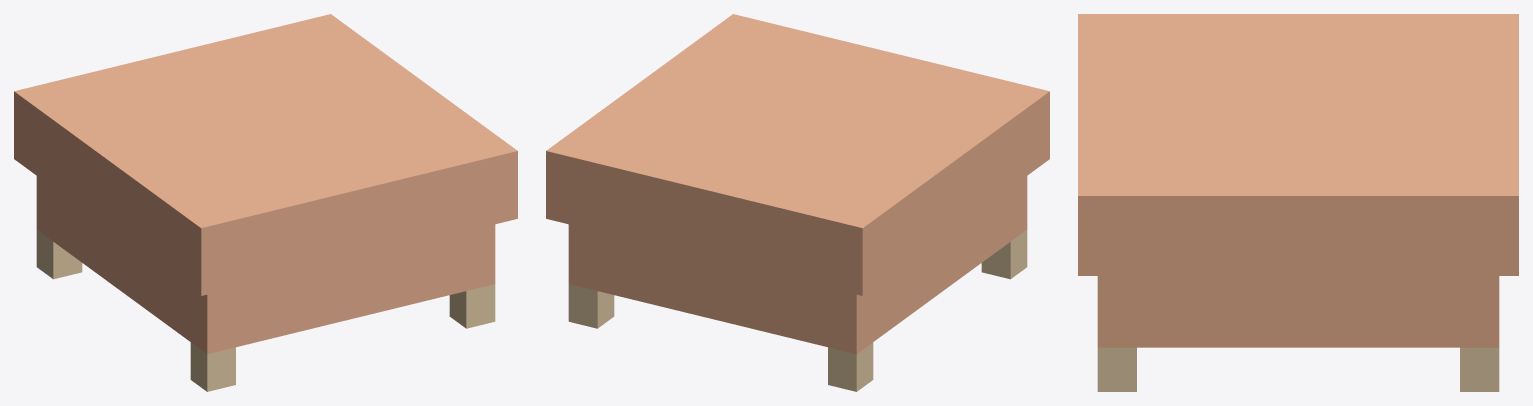
Rendered from loungeSofaOttoman.glb.
3 views of the same model, side by side, from view 1: azimuth 30°, elevation 25°; view 2: azimuth 150°, elevation 25°; view 3: azimuth 270°, elevation 25° (orthographic). The views are drawn at different scales.
Parts seen in each view (by area): view 1: loungeSofaOttoman; view 2: loungeSofaOttoman; view 3: loungeSofaOttoman.
Part boxes in pixels (bbox=[...]): loungeSofaOttoman: bbox=[14, 14, 517, 391]; loungeSofaOttoman: bbox=[546, 14, 1049, 391]; loungeSofaOttoman: bbox=[1078, 14, 1518, 391].
Bounding box in the file's own units: 4.4 × 2.3 × 4.5.
